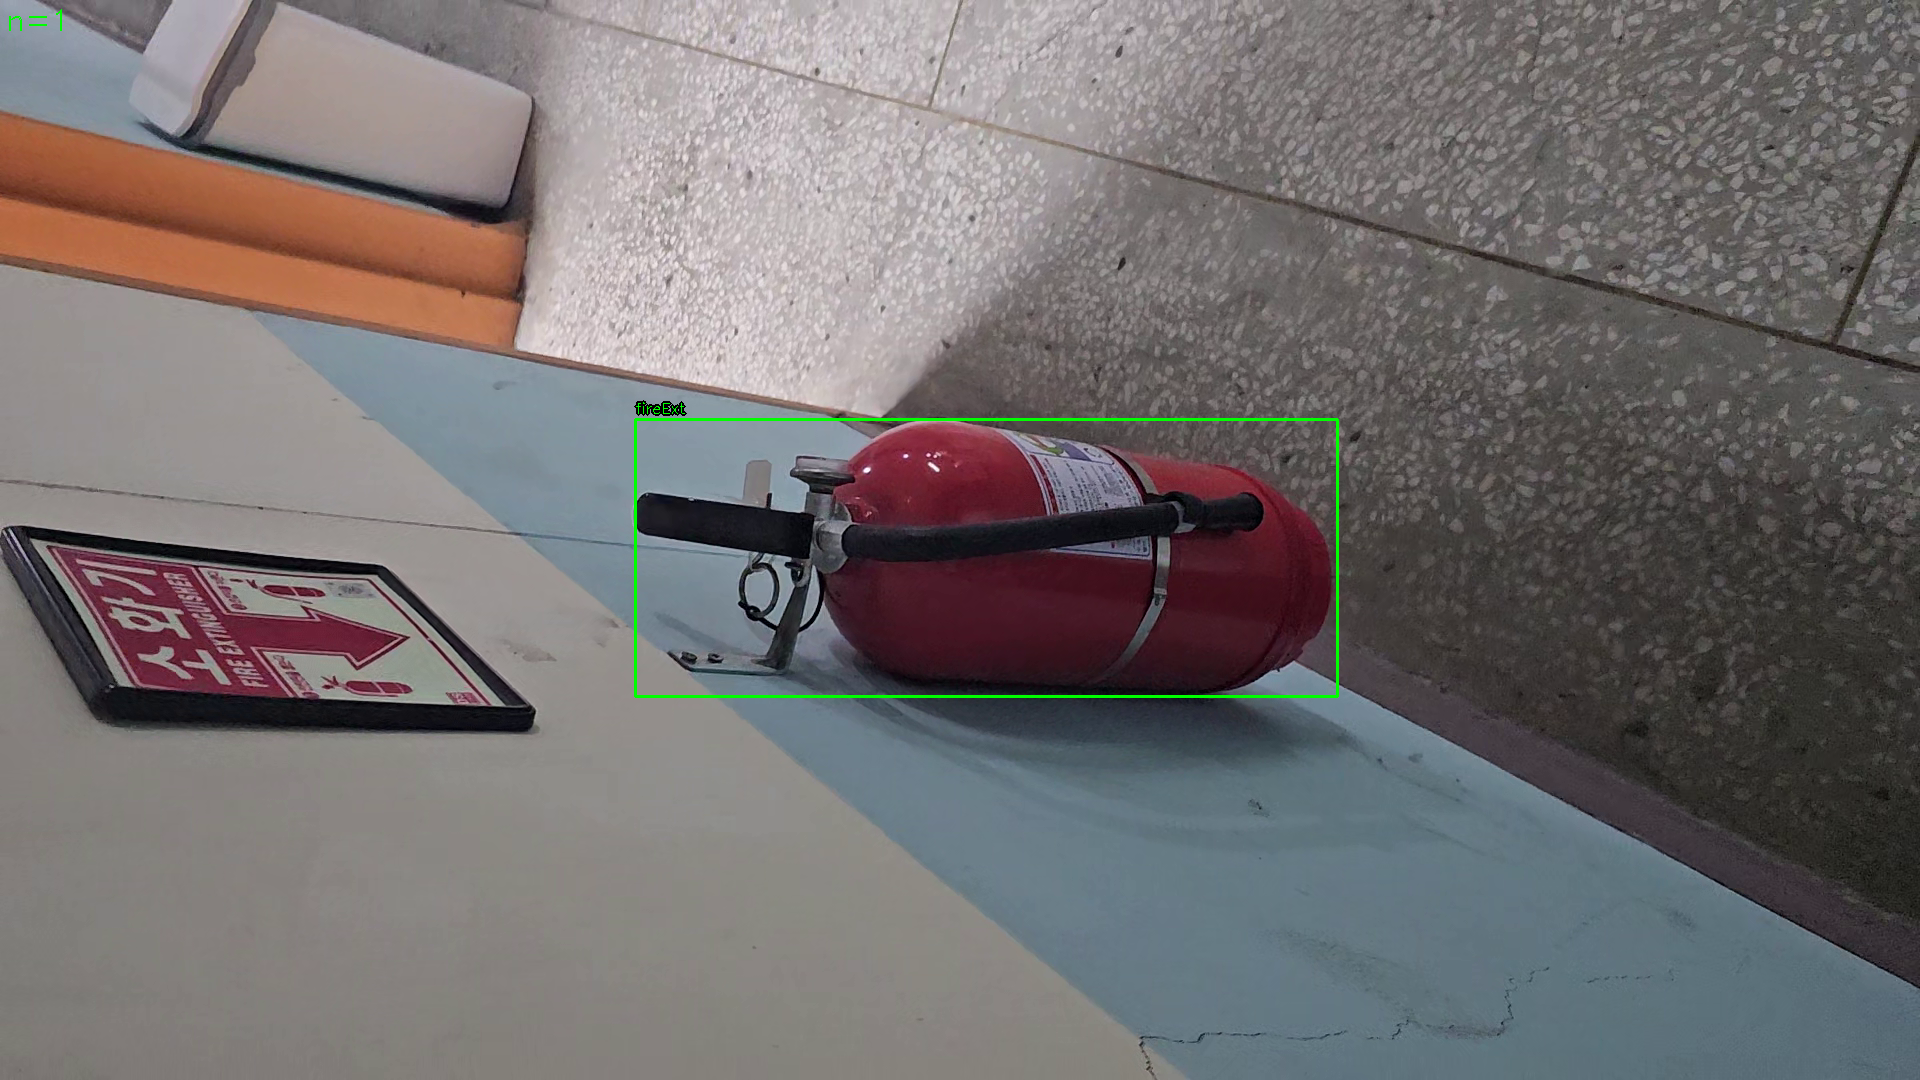lane: (636, 419, 1338, 698)
